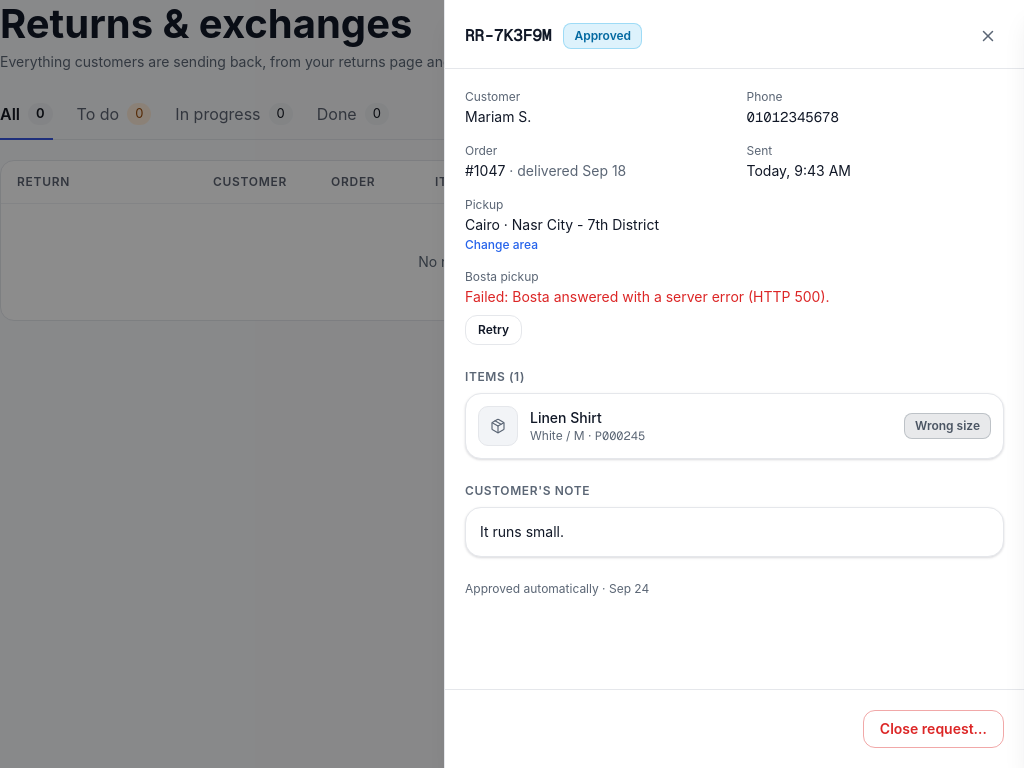
Scenario: Drawer → booking refresh after an action › closing the drawer stops the refresh
The width and height of the screenshot is (1024, 768).
Expected: the text "RR-7K3F9M" is shown, [465,25,551,46]
Click the button "Retry": coordinates (494, 330) [465,315,522,345]
Wait 2000 ms
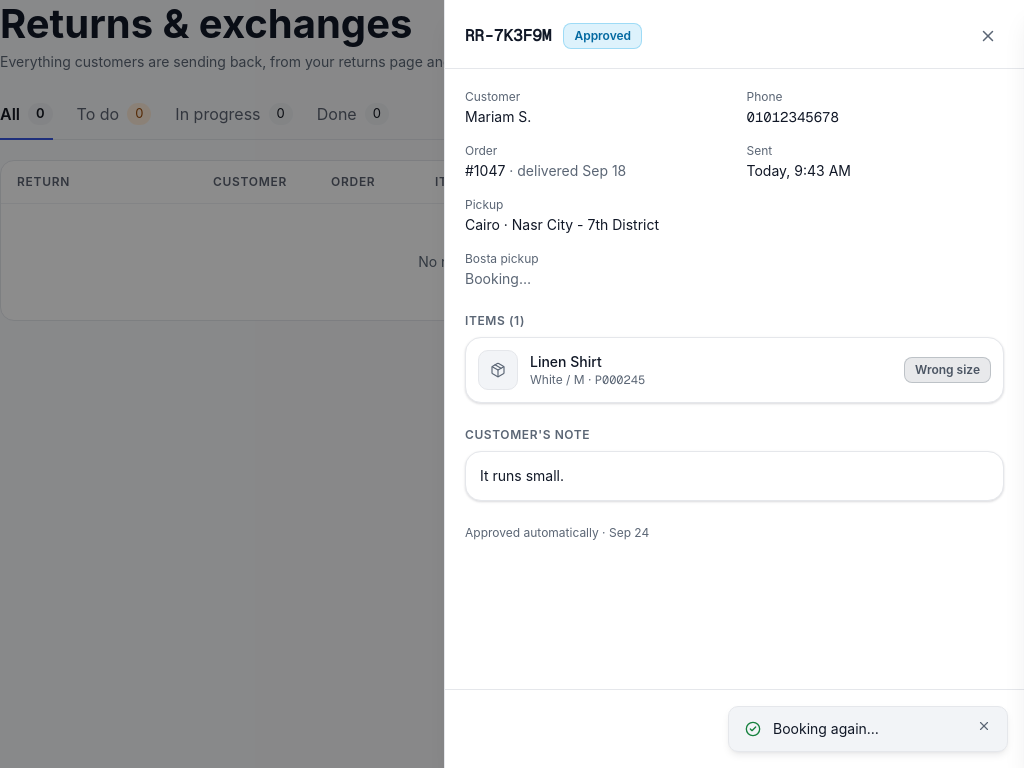
Expected: the text "Booking…" is shown, [465,270,531,287]
Click the button named "Close": coordinates (988, 36) [972,20,1004,52]
Wait 20000 ms
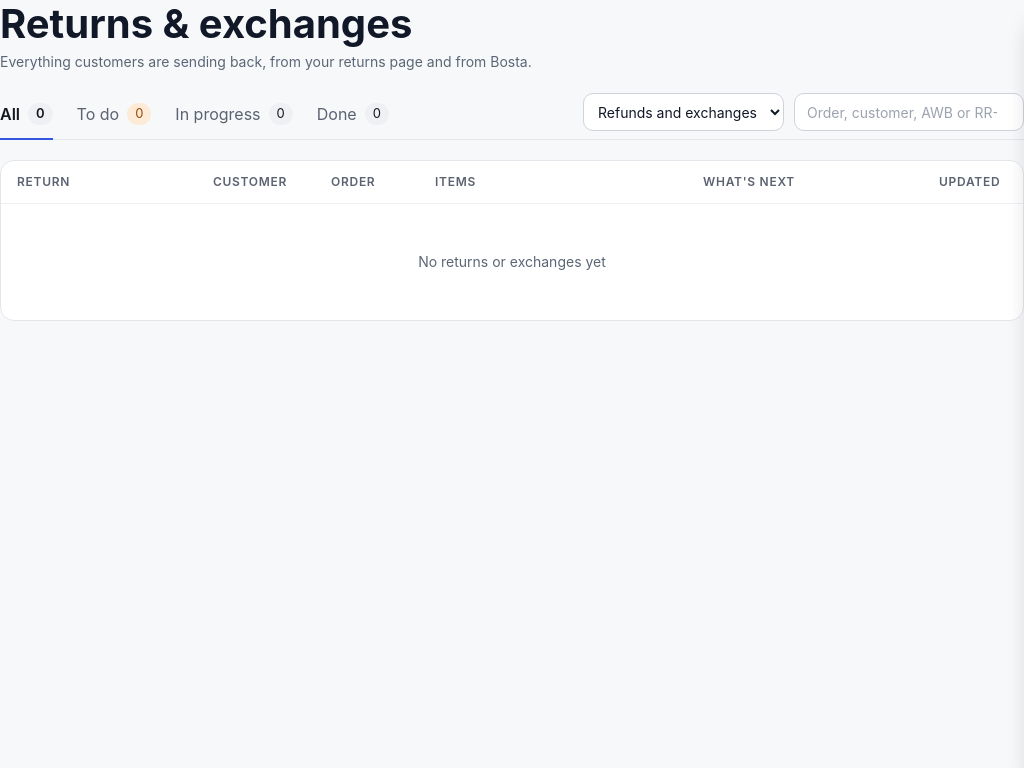
Expected: the text "It runs small." is gone
